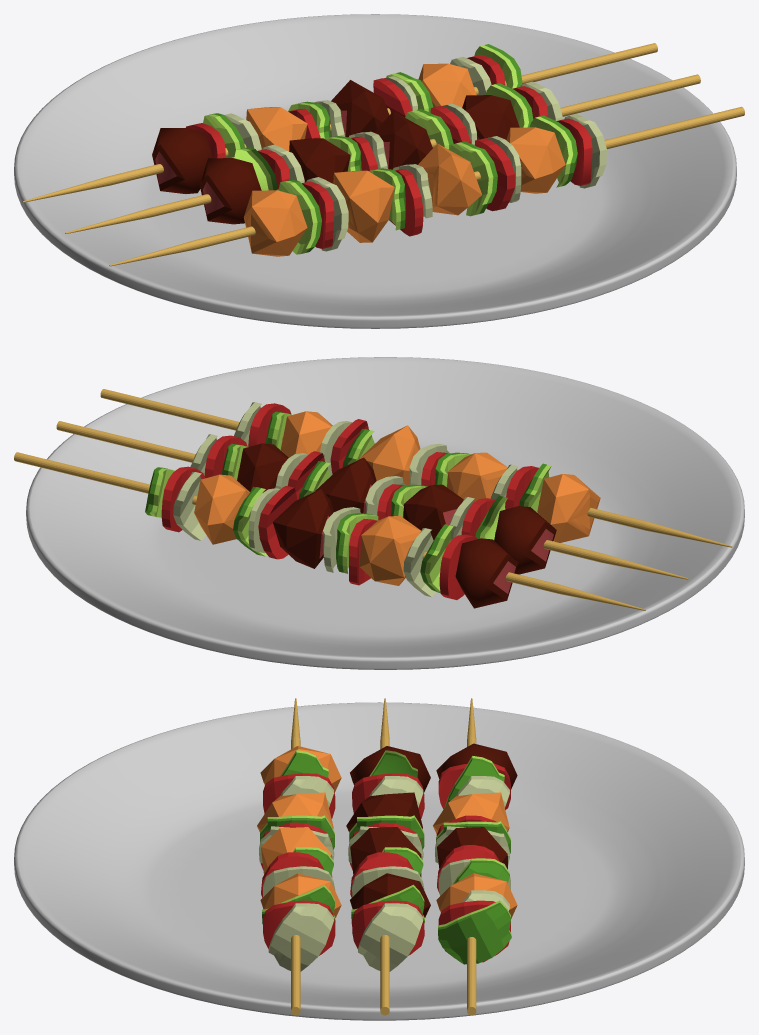
File: Kebab.glb
3 views of the same model, one above another, from view 1: azimuth 30°, elevation 25°; view 2: azimuth 150°, elevation 25°; view 3: azimuth 270°, elevation 25° (orthographic).
Visible parts, largest first — view 1: buffer-0-mesh-0_8, buffer-0-mesh-0_7, buffer-0-mesh-0_0, buffer-0-mesh-0_4, buffer-0-mesh-0_2, buffer-0-mesh-0_6, buffer-0-mesh-0_5, buffer-0-mesh-0_3, buffer-0-mesh-0_1; view 2: buffer-0-mesh-0_8, buffer-0-mesh-0_7, buffer-0-mesh-0_0, buffer-0-mesh-0_4, buffer-0-mesh-0_5, buffer-0-mesh-0_6, buffer-0-mesh-0_2, buffer-0-mesh-0_3, buffer-0-mesh-0_1; view 3: buffer-0-mesh-0_8, buffer-0-mesh-0_5, buffer-0-mesh-0_3, buffer-0-mesh-0_4, buffer-0-mesh-0_7, buffer-0-mesh-0_0, buffer-0-mesh-0_6, buffer-0-mesh-0_2.
Part boxes in pixels (<box>): buffer-0-mesh-0_8: <box>14,14,736,328</box>; buffer-0-mesh-0_7: <box>243,63,565,256</box>; buffer-0-mesh-0_0: <box>152,80,519,224</box>; buffer-0-mesh-0_4: <box>186,54,592,248</box>; buffer-0-mesh-0_2: <box>203,45,573,254</box>; buffer-0-mesh-0_6: <box>22,43,744,266</box>; buffer-0-mesh-0_5: <box>224,57,606,251</box>; buffer-0-mesh-0_3: <box>210,44,577,252</box>; buffer-0-mesh-0_1: <box>155,110,479,214</box>; buffer-0-mesh-0_8: <box>26,357,744,669</box>; buffer-0-mesh-0_7: <box>194,411,600,585</box>; buffer-0-mesh-0_0: <box>237,443,556,608</box>; buffer-0-mesh-0_4: <box>161,403,538,599</box>; buffer-0-mesh-0_5: <box>173,402,518,597</box>; buffer-0-mesh-0_6: <box>14,389,732,610</box>; buffer-0-mesh-0_2: <box>149,412,551,592</box>; buffer-0-mesh-0_3: <box>145,411,546,592</box>; buffer-0-mesh-0_1: <box>274,484,553,593</box>; buffer-0-mesh-0_8: <box>14,702,744,1020</box>; buffer-0-mesh-0_5: <box>259,776,510,971</box>; buffer-0-mesh-0_3: <box>260,752,511,964</box>; buffer-0-mesh-0_4: <box>260,763,510,962</box>; buffer-0-mesh-0_7: <box>257,746,517,918</box>; buffer-0-mesh-0_0: <box>346,743,517,917</box>; buffer-0-mesh-0_6: <box>291,698,476,1015</box>; buffer-0-mesh-0_2: <box>260,750,511,935</box>.
Size of the model in its own units: 112 by 14.77 by 110.
